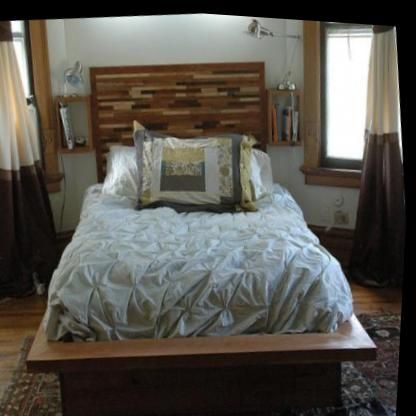Bed: (0, 33, 398, 416)
